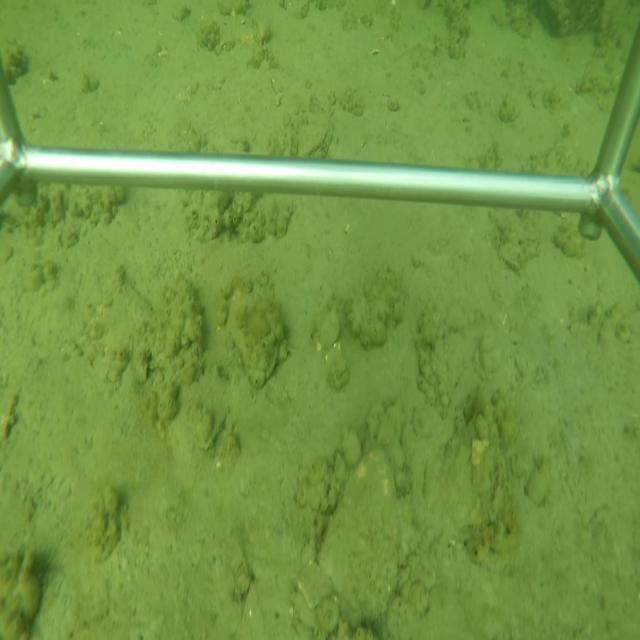Oyster-Closed: (316, 441, 409, 619), (295, 102, 333, 155)
Oyster-Indeterminate: (222, 283, 284, 393)
